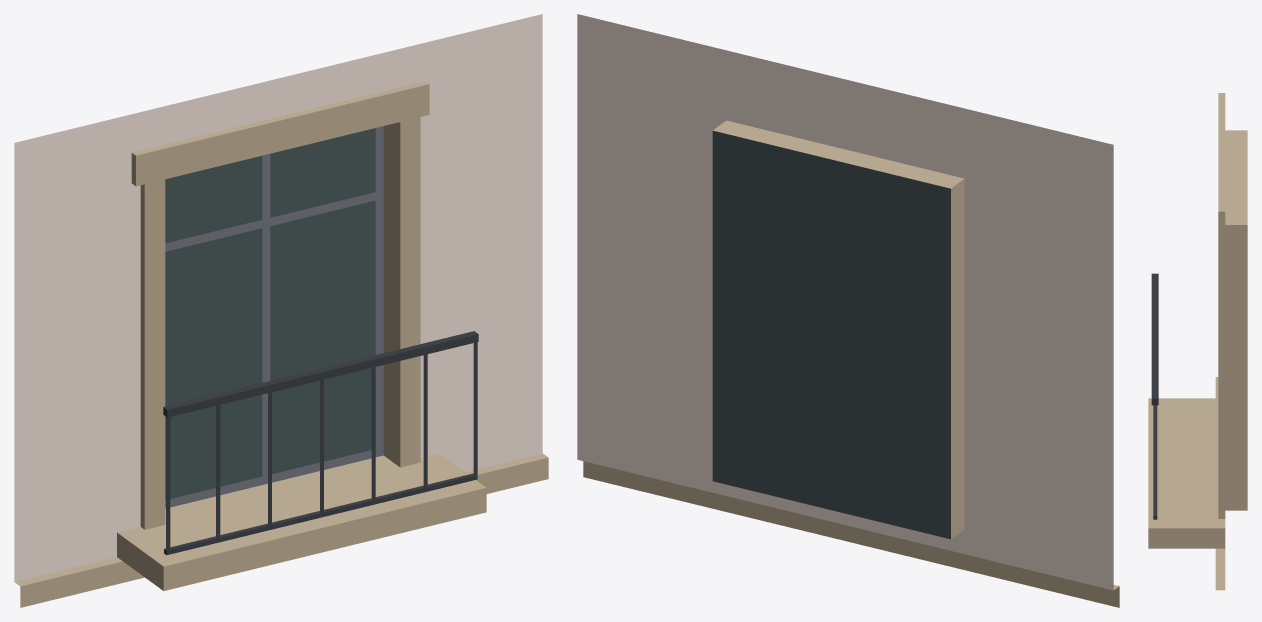
The model's file is mid-w1.fbx.
The picture shows the model from 3 angles, left to right: view 1: azimuth 30°, elevation 25°; view 2: azimuth 150°, elevation 25°; view 3: azimuth 270°, elevation 25°; orthographic projection. The views are drawn at different scales.
Parts seen in each view (by area): view 1: a2019/250/mid-w1; view 2: a2019/250/mid-w1; view 3: a2019/250/mid-w1.
Part boxes in pixels (bbox=[...]): a2019/250/mid-w1: bbox=[14, 14, 548, 607]; a2019/250/mid-w1: bbox=[577, 14, 1119, 607]; a2019/250/mid-w1: bbox=[1148, 93, 1247, 590].
Bounding box in the file's own units: 3.6 × 3 × 0.71.
